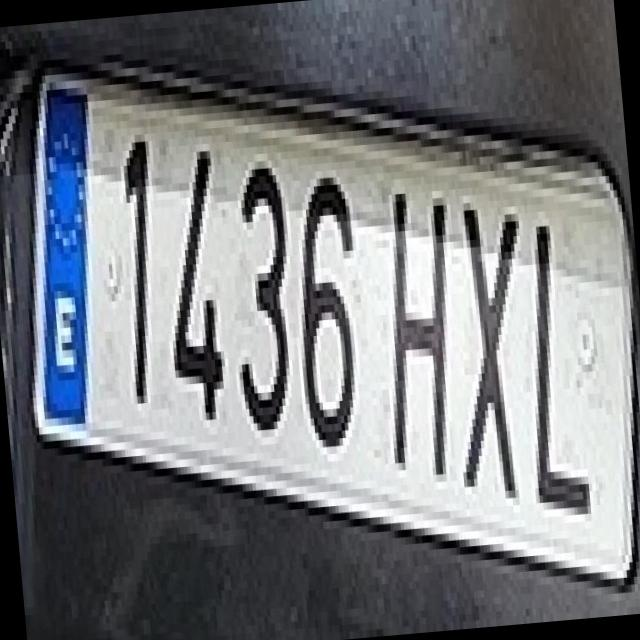1: (89, 111, 177, 405)
3: (205, 136, 307, 432)
4: (136, 120, 240, 424)
6: (274, 153, 380, 449)
H: (356, 159, 476, 479)
L: (492, 193, 604, 519)
X: (428, 182, 546, 502)
